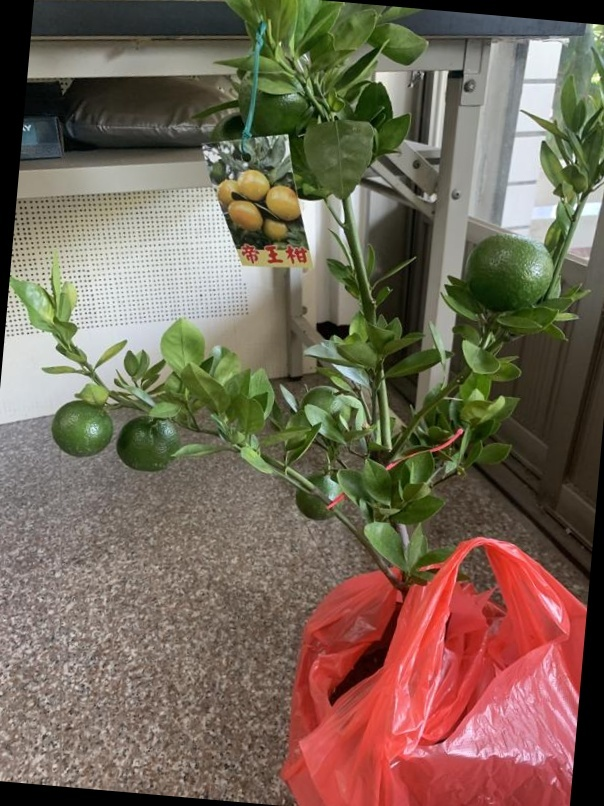Tangerine: (466, 226, 556, 309), (116, 411, 182, 474), (49, 400, 113, 457)
